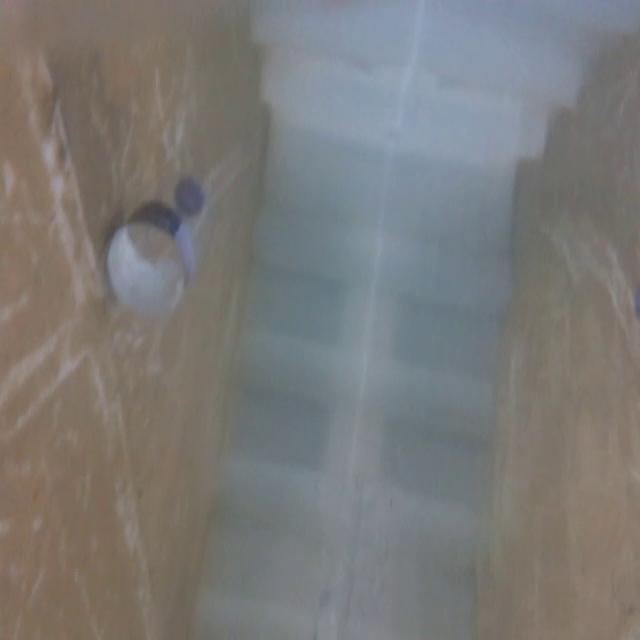plastic bottle: (74, 176, 216, 403)
